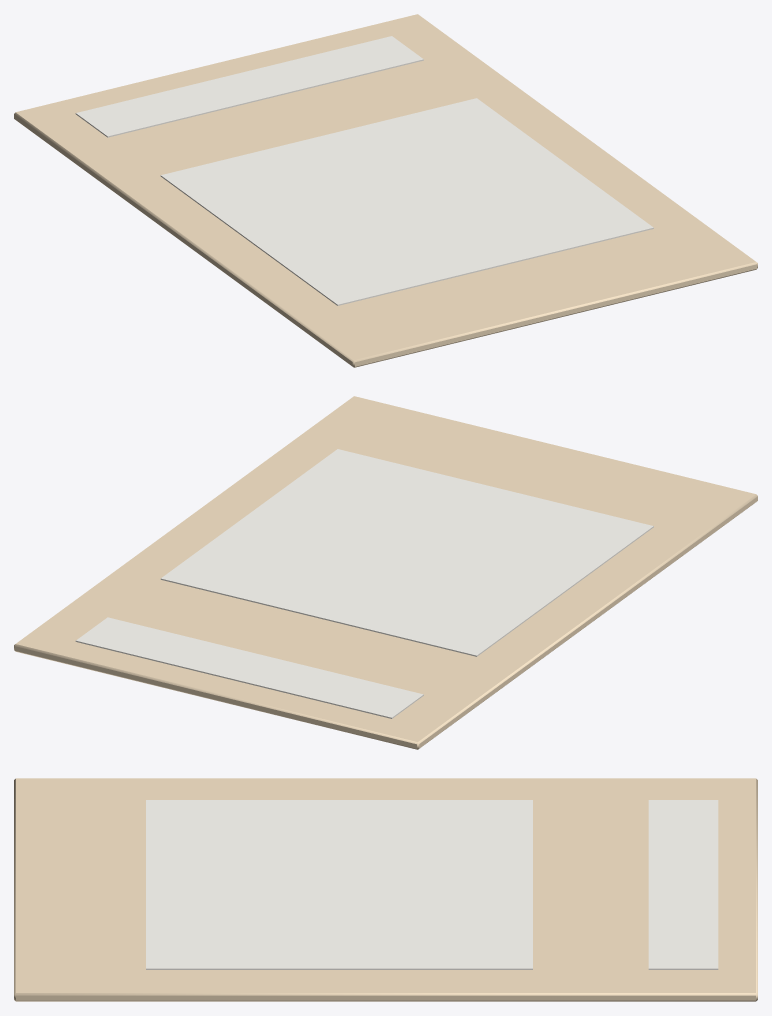
The model's file is pattern_envelope.glb.
3 views of the same model, one above another, from view 1: azimuth 30°, elevation 25°; view 2: azimuth 150°, elevation 25°; view 3: azimuth 270°, elevation 25° (orthographic). The views are drawn at different scales.
Visible parts, largest first — view 1: pattern_envelope; view 2: pattern_envelope; view 3: pattern_envelope.
Part boxes in pixels (left/top/right/bottom): pattern_envelope: left=14, top=14, right=757, bottom=367; pattern_envelope: left=14, top=396, right=757, bottom=749; pattern_envelope: left=14, top=778, right=757, bottom=1001.
Bounding box in the file's own units: 0.22 × 0.00465 × 0.32.
